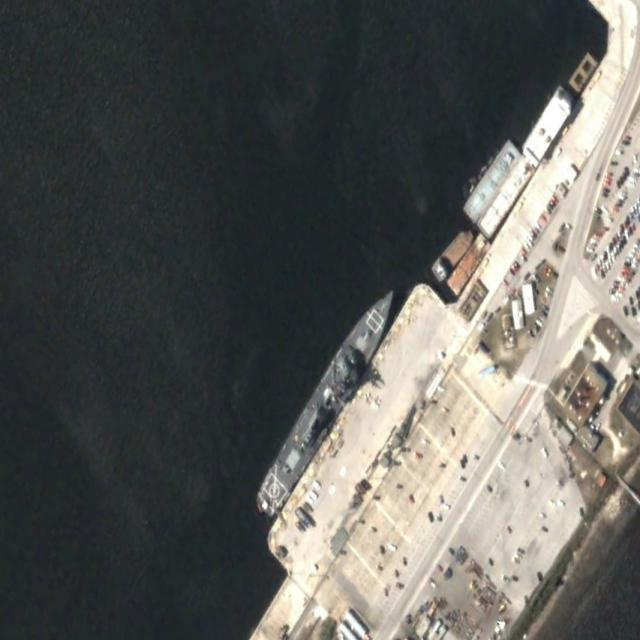Destroyer: (250, 276, 405, 526)
